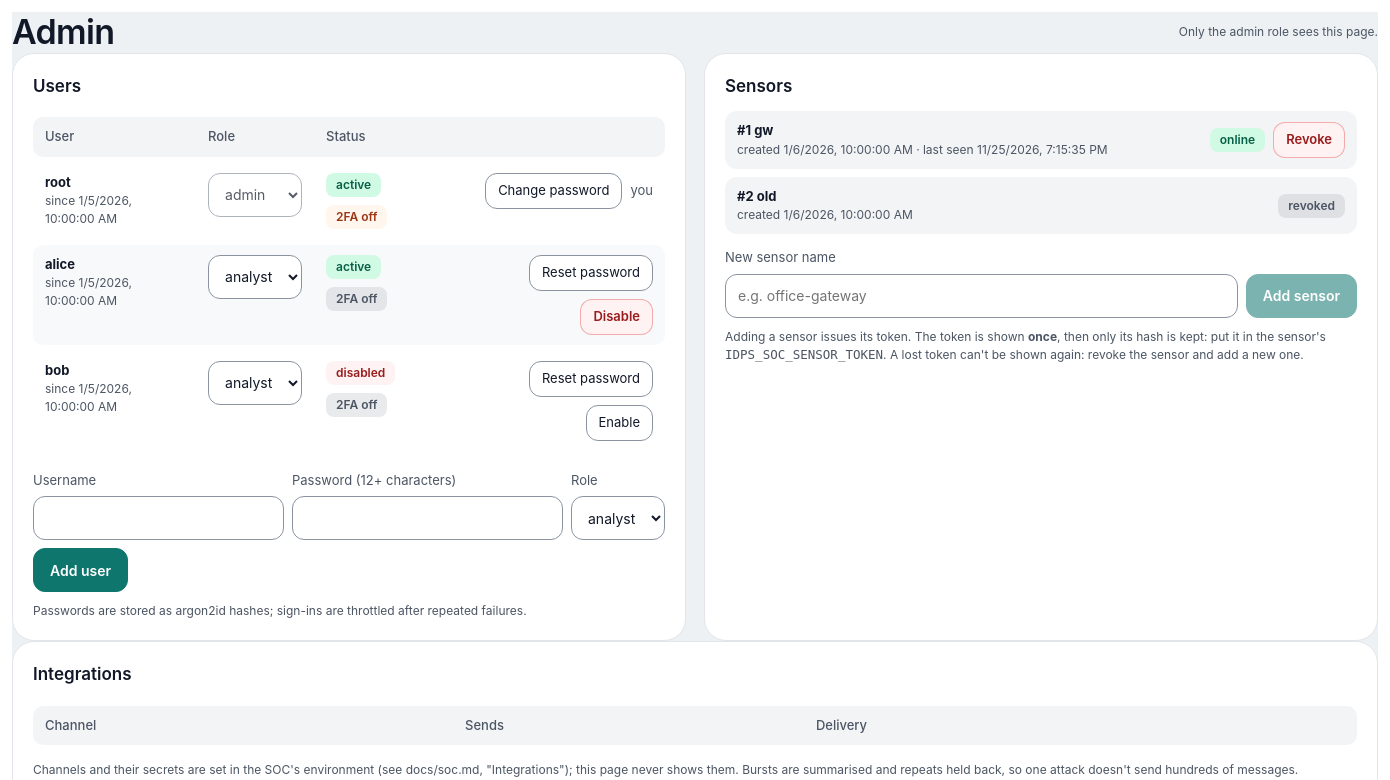
Test: users › enable does not ask to confirm
Click the button with aria-label "Enable bob": (619, 423) [586,405,653,441]
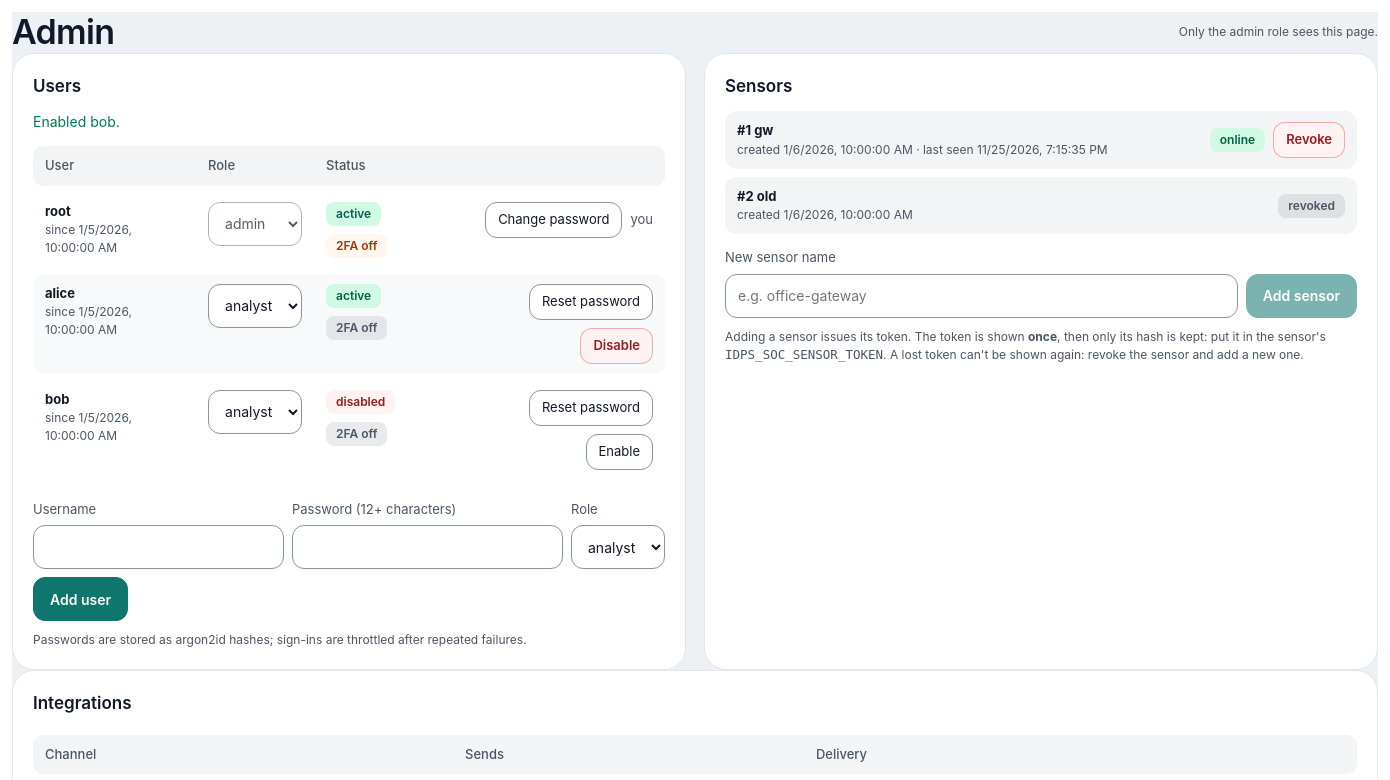
Expected: the text "Enabled bob." is shown, [33,113,120,130]
